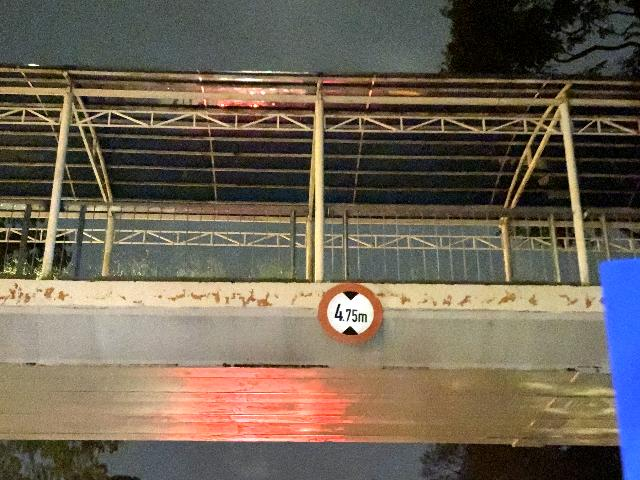han-che-chieu-cao: (317, 283, 383, 344)
